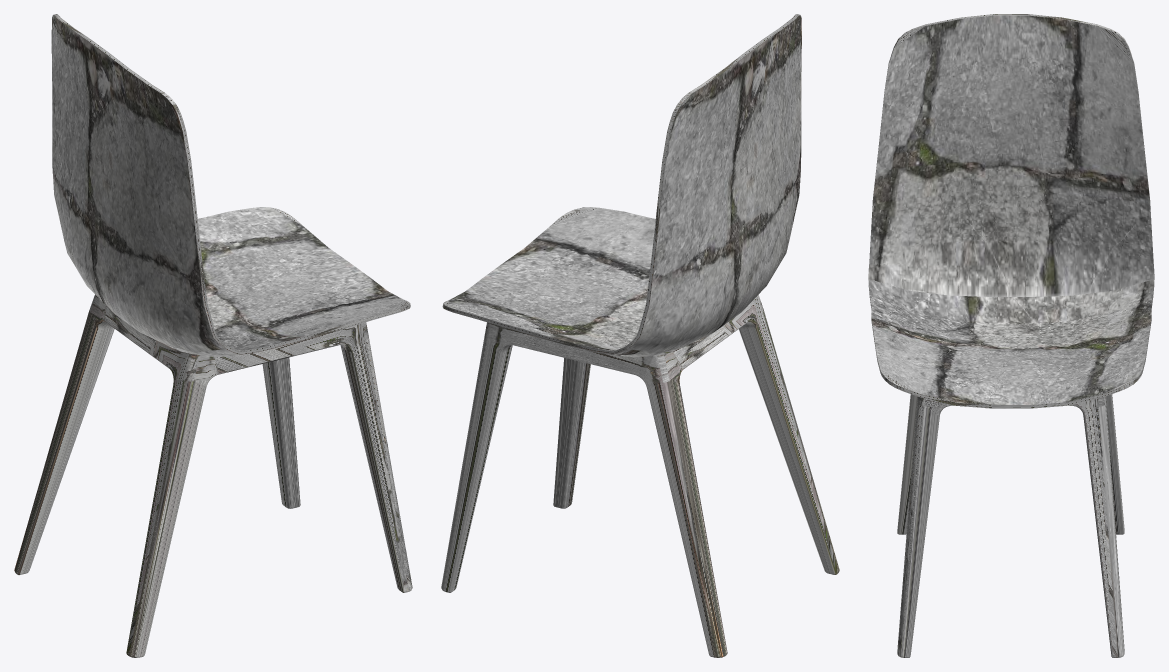
File: chair.gltf
3 renders of one model, left to right at view 1: azimuth 30°, elevation 25°; view 2: azimuth 150°, elevation 25°; view 3: azimuth 270°, elevation 25°, orthographic. The views are drawn at different scales.
Parts seen in each view (by area): view 1: Odger; view 2: Odger; view 3: Odger.
Boxes of the visible parts, x1,y1,x2,y2 form: Odger: (14, 14, 412, 657); Odger: (441, 14, 839, 657); Odger: (868, 14, 1154, 657).
Bounding box in the file's own units: 0.9686 × 1.8 × 0.8864.
1 material, 1 textured.
